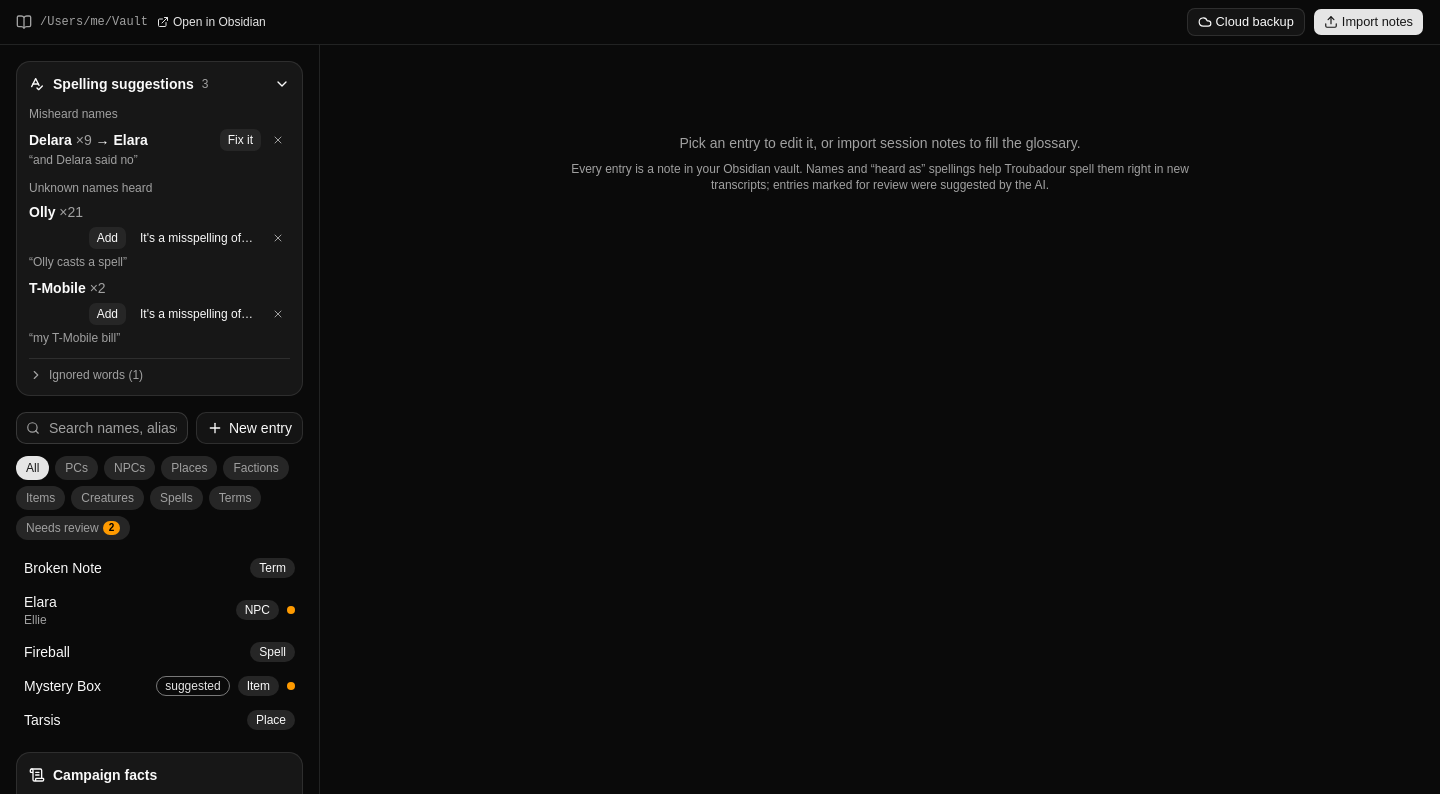
Scenario: suggestions › ✕ on an unknown name ignores it: posts {words}, hides the row at once, Undo un-ignores
Expected: the text "×2" is shown, [90,280,106,296]
Click the button named "Ignore T-Mobile" at (278, 314), box [266,302,290,326]
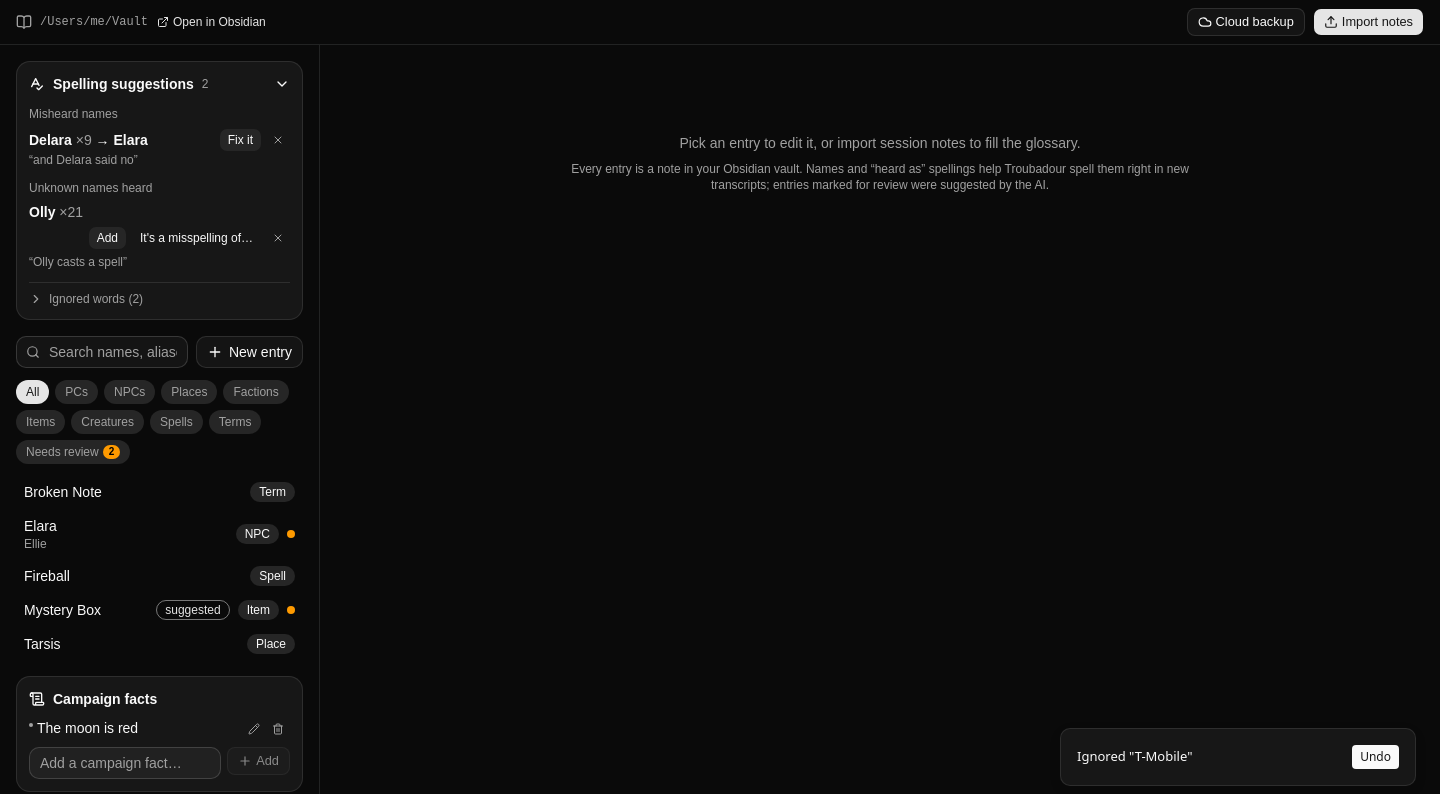
Click the button "Undo" at (1376, 757), box [1352,745,1399,769]
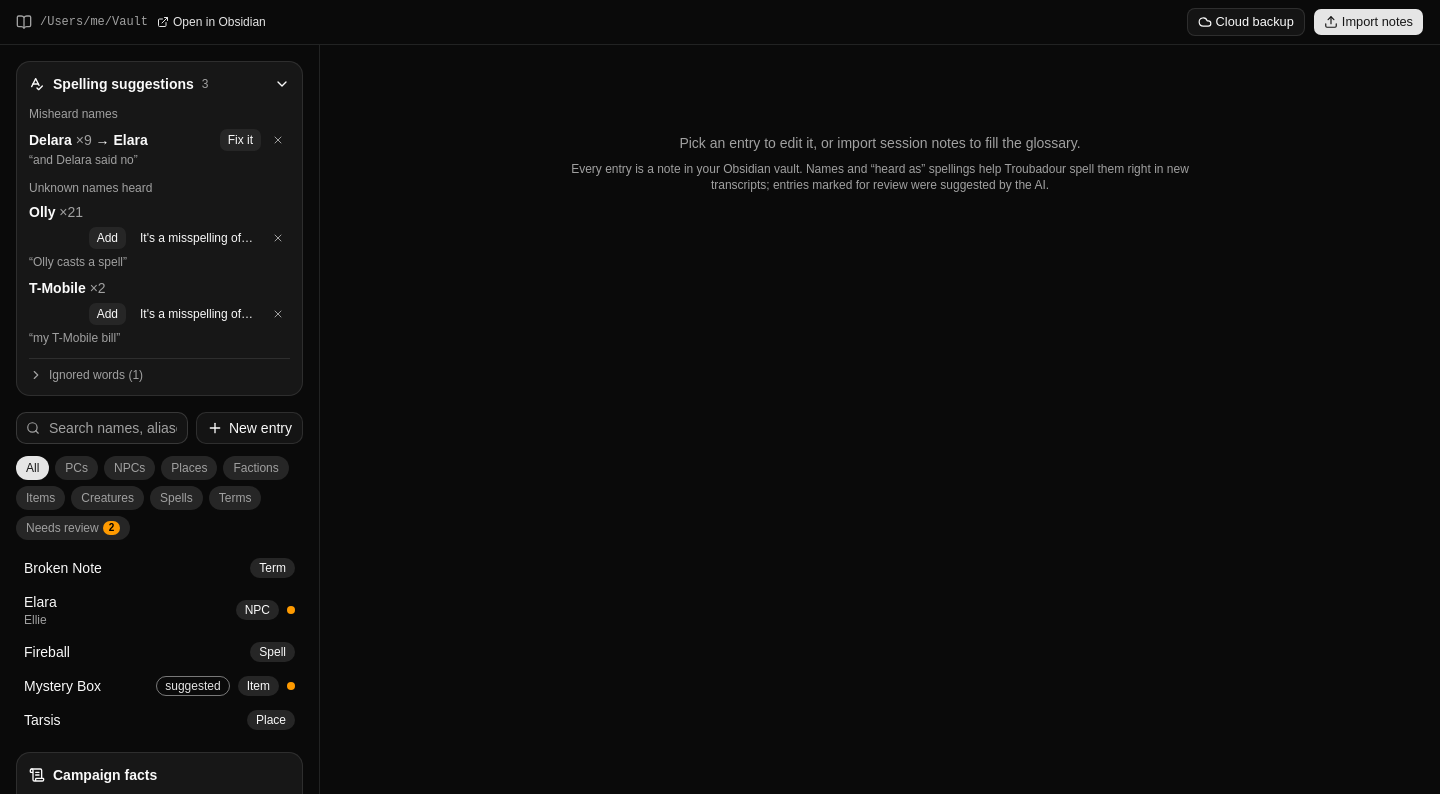
Result: the list item "T-Mobile ×2 Add It's a misspelling of… “my T-Mobile bill”" is shown at [29,278,290,346]
